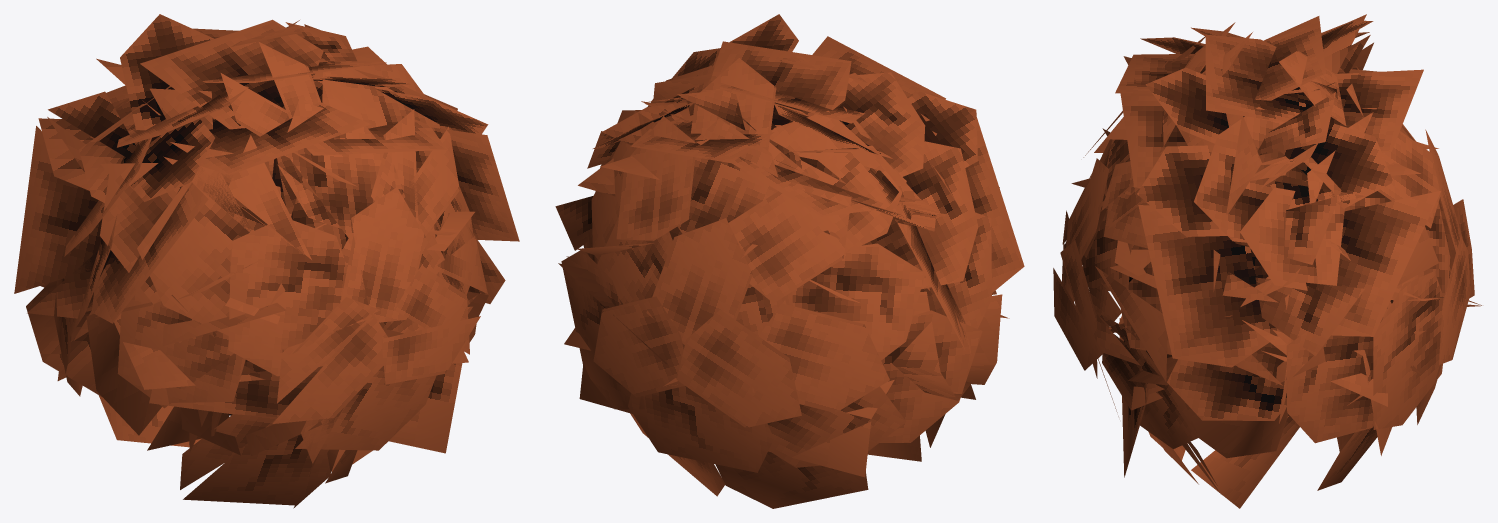
Rendered from bush-holly-autumn.glb.
3 views of the same model, side by side, from view 1: azimuth 30°, elevation 25°; view 2: azimuth 150°, elevation 25°; view 3: azimuth 270°, elevation 25° (orthographic). The views are drawn at different scales.
Visible parts, largest first — view 1: bush-holly-autumn; view 2: bush-holly-autumn; view 3: bush-holly-autumn.
Part boxes in pixels (left/top/right/bottom): bush-holly-autumn: left=14, top=14, right=519, bottom=508; bush-holly-autumn: left=555, top=14, right=1024, bottom=508; bush-holly-autumn: left=1053, top=14, right=1481, bottom=508.
Size of the model in its own units: 1.15 by 1.14 by 1.02.
Materials: 1 (1 with a texture image).
